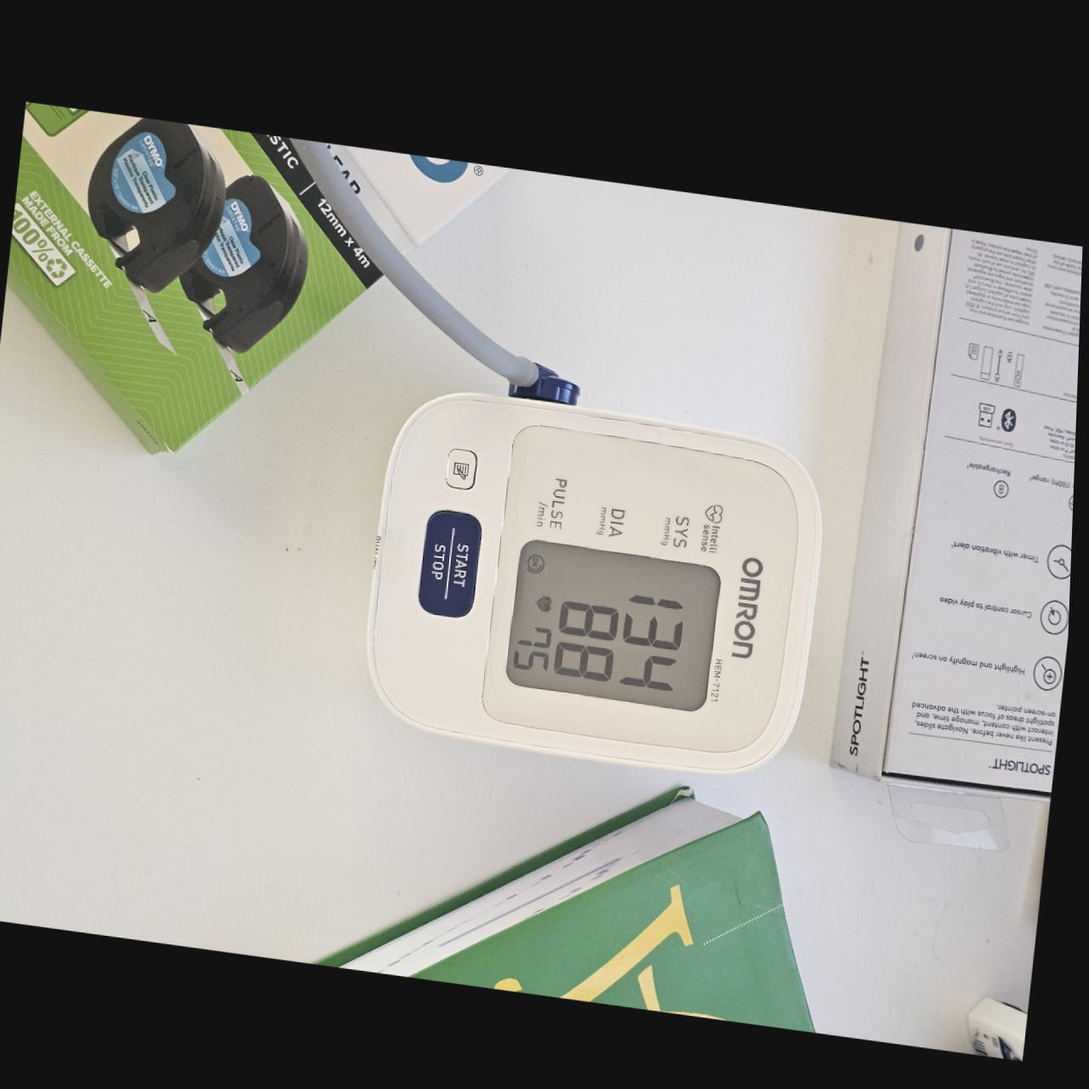blood pressure monitor: (351, 377, 835, 790)
